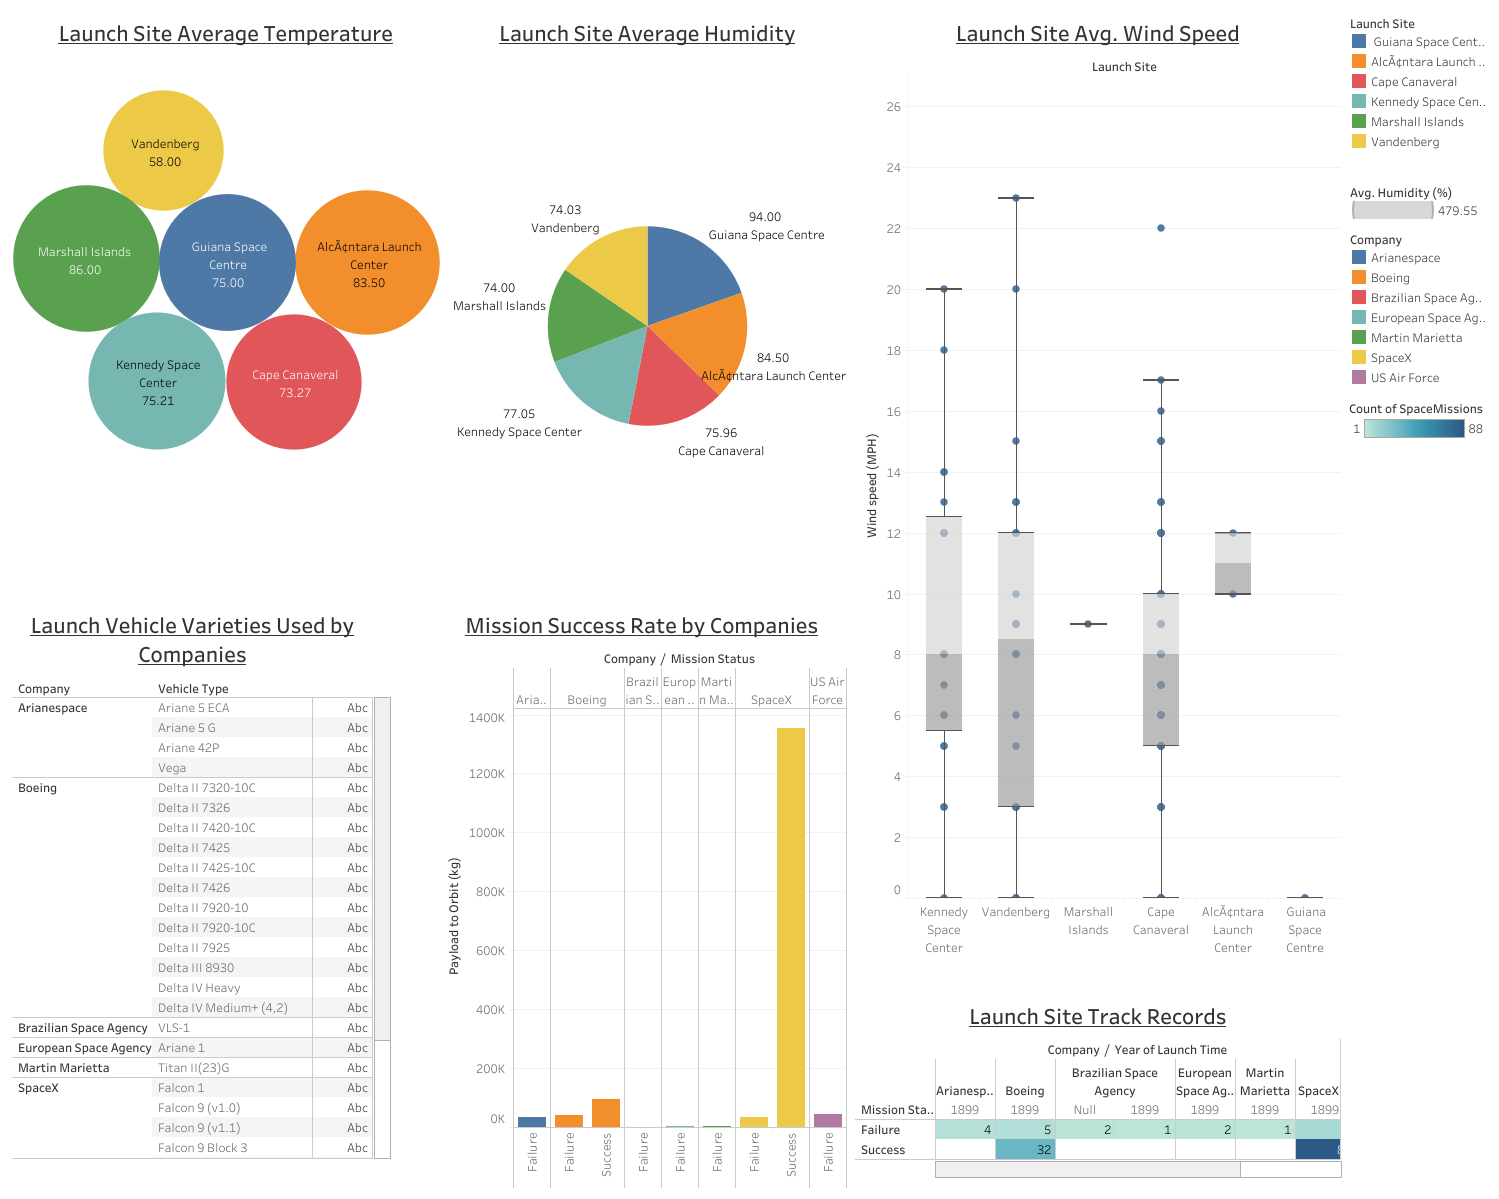

Layout of this report page (visuals, bound fields, positions):
{"tool":"tableau","page":{"name":"Dashboard 1","canvas":[1500,1200],"ordinal":0},"visuals":[{"type":"worksheet","title":"Launch Site Temperature","mark":"Circle","box":[8,8,436.2,592]},{"type":"worksheet","title":"Launch Site Humidity","mark":"Pie","box":[444.2,8,406.8,592]},{"type":"worksheet","title":"Launch Site Wind Speed","mark":"Circle","rows":["Wind speed (MPH)"],"cols":["Launch Site"],"box":[851,8,494,983]},{"type":"legend","title":"Launch Site Temperature","param":"[federated.1g3srek0n2h8em17i0gbc0ev2mvh].[none:Launch Site:nk]","box":[1345,8,147,147]},{"type":"legend","title":"Launch Site Temperature","param":"[federated.1g3srek0n2h8em17i0gbc0ev2mvh].[avg:Temperature (Â° F):qk]","box":[1345,155,147,22]},{"type":"legend","title":"Launch Site Humidity","param":"[federated.1g3srek0n2h8em17i0gbc0ev2mvh].[avg:Humidity (%):qk]","box":[1345,177,147,47]},{"type":"legend","title":"Mission Status","param":"[federated.1g3srek0n2h8em17i0gbc0ev2mvh].[none:Company:nk]","box":[1345,224,147,167]},{"type":"legend","title":"Launch Site Track Records","param":"[federated.1g3srek0n2h8em17i0gbc0ev2mvh].[__tableau_internal_object_id__].[cnt:S","box":[1345,391,147,68]},{"type":"worksheet","title":"Launch Vehicle Varieties","mark":"Automatic","rows":["Company","Vehicle Type"],"box":[8,600,424.9,592]},{"type":"worksheet","title":"Mission Status","mark":"Automatic","rows":["Payload to Orbit (kg)"],"cols":["Company","Mission Status"],"box":[432.9,600,418.1,592]},{"type":"worksheet","title":"Launch Site Track Records","mark":"Square","rows":["Mission Status"],"cols":["Company","Launch Time"],"box":[851,991,494,201]}]}

Visuals, with their boxes in screenshot pixels (x1, y1, x2, y2), scaled from the page's 1500x1200 canvas onto the 1499x1199 screenshot:
"Launch Site Temperature" worksheet (Circle marks): (x1=8, y1=8, x2=444, y2=600)
"Launch Site Humidity" worksheet (Pie marks): (x1=444, y1=8, x2=850, y2=600)
"Launch Site Wind Speed" worksheet (Circle marks): (x1=850, y1=8, x2=1344, y2=990)
"Launch Site Temperature" legend: (x1=1344, y1=8, x2=1491, y2=155)
"Launch Site Temperature" legend: (x1=1344, y1=155, x2=1491, y2=177)
"Launch Site Humidity" legend: (x1=1344, y1=177, x2=1491, y2=224)
"Mission Status" legend: (x1=1344, y1=224, x2=1491, y2=391)
"Launch Site Track Records" legend: (x1=1344, y1=391, x2=1491, y2=459)
"Launch Vehicle Varieties" worksheet: (x1=8, y1=600, x2=433, y2=1191)
"Mission Status" worksheet: (x1=433, y1=600, x2=850, y2=1191)
"Launch Site Track Records" worksheet (Square marks): (x1=850, y1=990, x2=1344, y2=1191)
